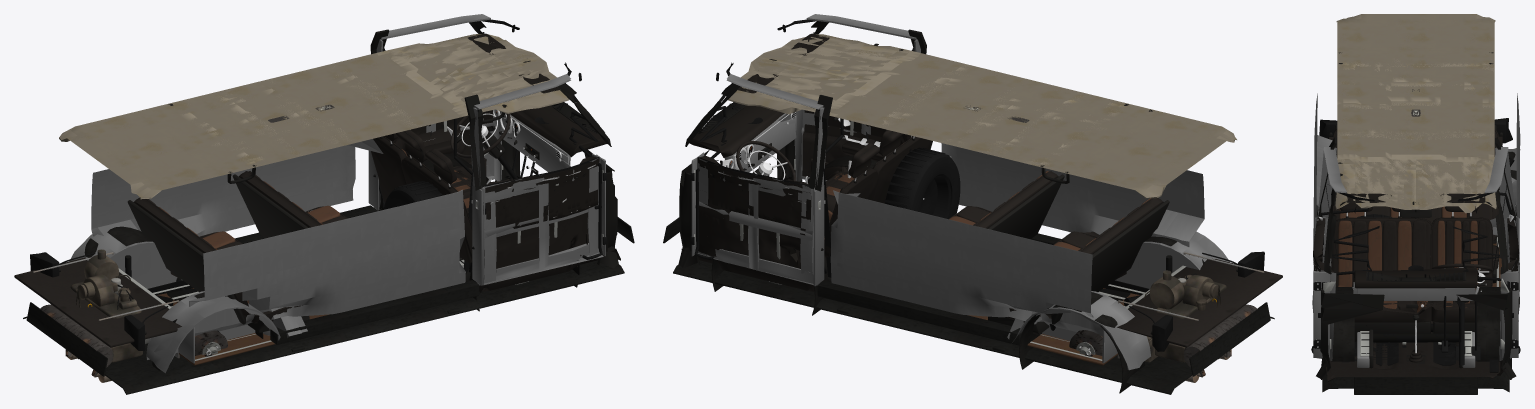
The model's file is furgao-classico_completo.glb.
The picture shows the model from 3 angles, left to right: view 1: azimuth 30°, elevation 25°; view 2: azimuth 150°, elevation 25°; view 3: azimuth 270°, elevation 25°; orthographic projection. The views are drawn at different scales.
Visible parts, largest first — view 1: interior_carga, interior_forro_teto, under_assoalho, door_card_fr, under_saias, door_card_fr_chapa, interior_banco_passageiros_2, interior_painel, interior_banco_passageiros_1, engine_motor, interior_banco_dianteiro_dir, jamb_fr_colunas (+15 smaller); view 2: interior_carga, interior_forro_teto, under_assoalho, door_card_fl, under_saias, door_card_fl_chapa, interior_banco_passageiros_2, interior_painel, interior_portamalas_estepe, interior_banco_passageiros_1, engine_motor, jamb_fl_colunas (+15 smaller); view 3: interior_forro_teto, interior_banco_dianteiro_dir, interior_banco_dianteiro_esq, interior_painel, interior_carpete, under_saias, interior_acabamento_pe_dir, jamb_fl_colunas, jamb_fr_colunas, interior_carga, interior_acabamento_colunas, under_caixa_roda_fl (+20 smaller).
Boxes of the visible parts, bbox=[...] form: interior_carga: bbox=[14, 116, 465, 373]; interior_forro_teto: bbox=[59, 34, 568, 199]; under_assoalho: bbox=[23, 260, 624, 394]; door_card_fr: bbox=[483, 156, 599, 268]; under_saias: bbox=[26, 205, 634, 376]; door_card_fr_chapa: bbox=[477, 153, 603, 285]; interior_banco_passageiros_2: bbox=[127, 198, 309, 332]; interior_painel: bbox=[492, 102, 606, 174]; interior_banco_passageiros_1: bbox=[232, 171, 347, 238]; engine_motor: bbox=[67, 249, 149, 382]; interior_banco_dianteiro_dir: bbox=[396, 130, 484, 265]; jamb_fr_colunas: bbox=[471, 74, 605, 285]; interior_carga: bbox=[830, 116, 1282, 370]; interior_forro_teto: bbox=[728, 34, 1236, 198]; under_assoalho: bbox=[673, 260, 1274, 394]; door_card_fl: bbox=[698, 155, 811, 268]; under_saias: bbox=[663, 217, 1270, 376]; door_card_fl_chapa: bbox=[697, 152, 819, 285]; interior_banco_passageiros_2: bbox=[988, 198, 1169, 334]; interior_painel: bbox=[689, 102, 796, 172]; interior_portamalas_estepe: bbox=[885, 147, 960, 219]; interior_banco_passageiros_1: bbox=[949, 171, 1064, 239]; engine_motor: bbox=[1149, 270, 1229, 382]; jamb_fl_colunas: bbox=[691, 74, 825, 286]; interior_forro_teto: bbox=[1335, 14, 1496, 213]; interior_banco_dianteiro_dir: bbox=[1331, 203, 1433, 347]; interior_banco_dianteiro_esq: bbox=[1430, 206, 1493, 349]; interior_painel: bbox=[1353, 265, 1485, 308]; interior_carpete: bbox=[1326, 321, 1505, 382]; under_saias: bbox=[1354, 377, 1477, 394]; interior_acabamento_pe_dir: bbox=[1316, 288, 1384, 379]; jamb_fl_colunas: bbox=[1484, 147, 1518, 357]; jamb_fr_colunas: bbox=[1313, 147, 1346, 357]; interior_carga: bbox=[1313, 89, 1520, 286]; interior_acabamento_colunas: bbox=[1317, 137, 1516, 274]; under_caixa_roda_fl: bbox=[1477, 287, 1511, 379].
Size of what is drawn, in the model's own units: 4.35 by 1.74 by 1.62.
Materials: 44 (44 with a texture image).
